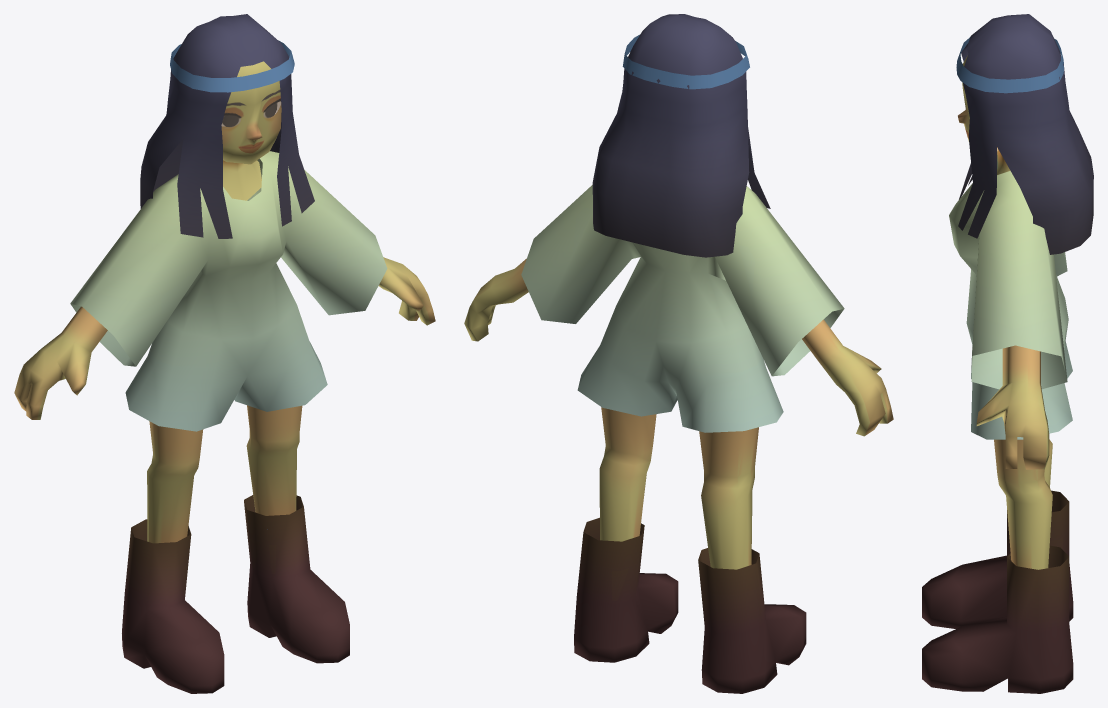
The model's file is Char_Stella.fbx.
3 views of the same model, side by side, from view 1: azimuth 30°, elevation 25°; view 2: azimuth 150°, elevation 25°; view 3: azimuth 270°, elevation 25° (orthographic).
Visible parts, largest first — view 1: Cube.001, Cube.003, Cube.005, Cube.002, Cube.004, Cube, Cube.006; view 2: Cube.001, Cube.005, Cube.003, Cube.002, Cube.004, Cube.006; view 3: Cube.005, Cube.003, Cube.001, Cube.004, Cube.002, Cube.006, Cube.
Boxes of the visible parts, x1,y1,x2,y2 form: Cube.001: (70,151,387,431); Cube.003: (122,495,349,693); Cube.005: (140,14,314,238); Cube.002: (147,405,302,543); Cube.004: (14,257,435,419); Cube: (221,61,281,200); Cube.006: (170,40,294,92); Cube.001: (521,185,844,432); Cube.005: (592,14,770,257); Cube.003: (574,517,806,693); Cube.002: (599,407,758,569); Cube.004: (464,258,893,436); Cube.006: (622,34,749,89); Cube.005: (958,14,1093,254); Cube.003: (922,490,1073,693); Cube.001: (949,151,1072,439); Cube.004: (976,345,1049,469); Cube.002: (994,439,1052,569); Cube.006: (956,37,1063,93); Cube: (958,55,1010,174).
Size of the model in its own units: 2.8 by 4.11 by 1.02.
Materials: 2 (2 with a texture image).
